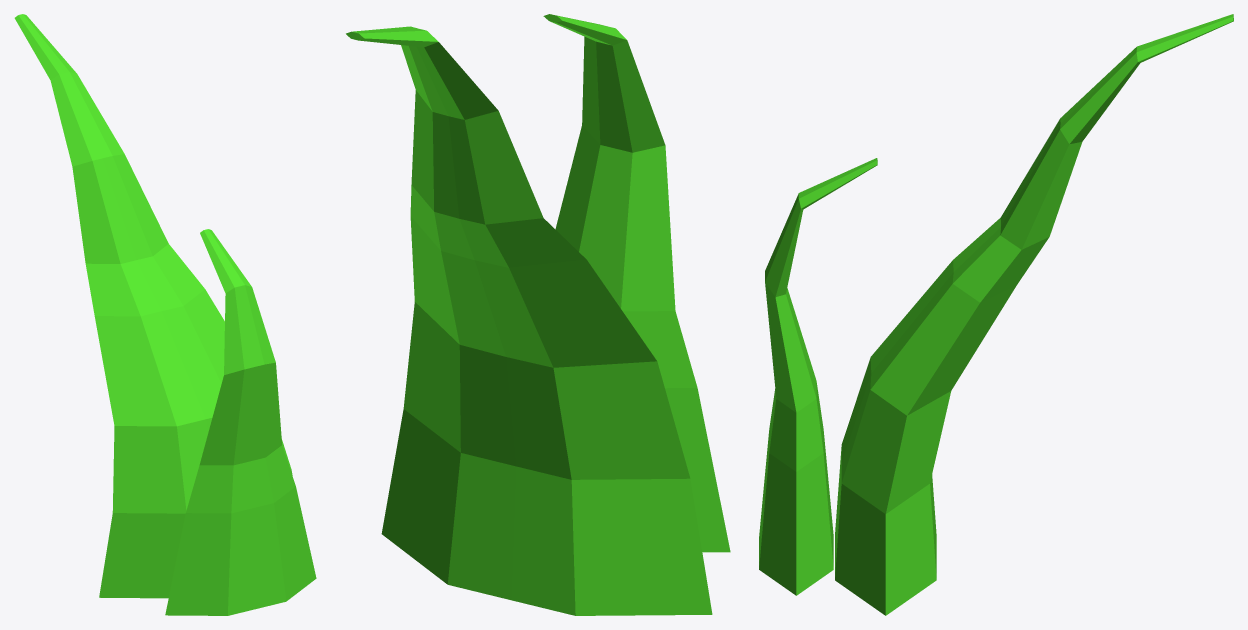
Rendered from Grass.fbx.
The picture shows the model from 3 angles, left to right: view 1: azimuth 30°, elevation 25°; view 2: azimuth 150°, elevation 25°; view 3: azimuth 270°, elevation 25°; orthographic projection. The views are drawn at different scales.
Parts seen in each view (by area): view 1: Cube, Cube.001; view 2: Cube, Cube.001; view 3: Cube, Cube.001.
Boxes of the visible parts, box(x1,y1,x2,y2) form: Cube: box(14, 14, 292, 598); Cube.001: box(165, 229, 316, 615); Cube: box(346, 26, 712, 615); Cube.001: box(543, 14, 730, 552); Cube: box(835, 14, 1233, 615); Cube.001: box(759, 158, 877, 595).
Bounding box in the file's own units: 969 × 2046 × 1676.
